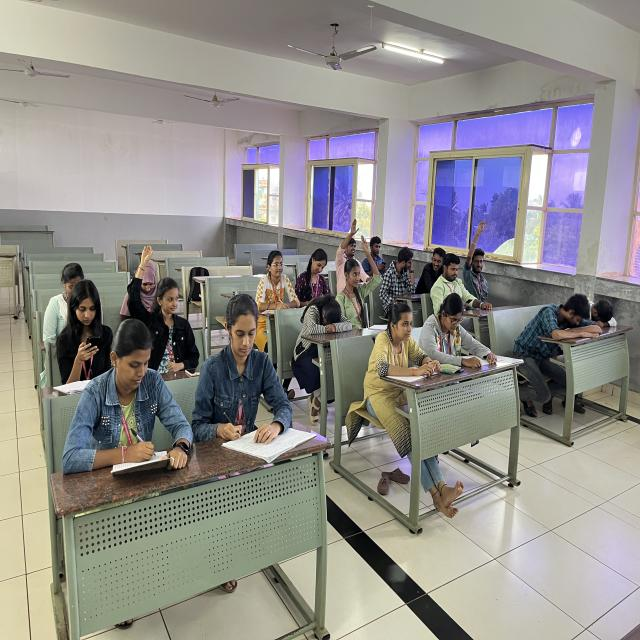Hand Rising: (118, 242, 206, 364), (461, 218, 514, 304), (339, 233, 383, 310), (335, 218, 376, 278)
Reading: (419, 292, 497, 365)
Sleeping: (294, 287, 357, 367), (524, 286, 595, 344), (586, 263, 624, 338)
Using Phone: (48, 272, 128, 372), (366, 224, 395, 279)
Writing: (200, 283, 322, 512), (69, 325, 197, 478), (253, 239, 303, 326), (291, 234, 334, 305)
